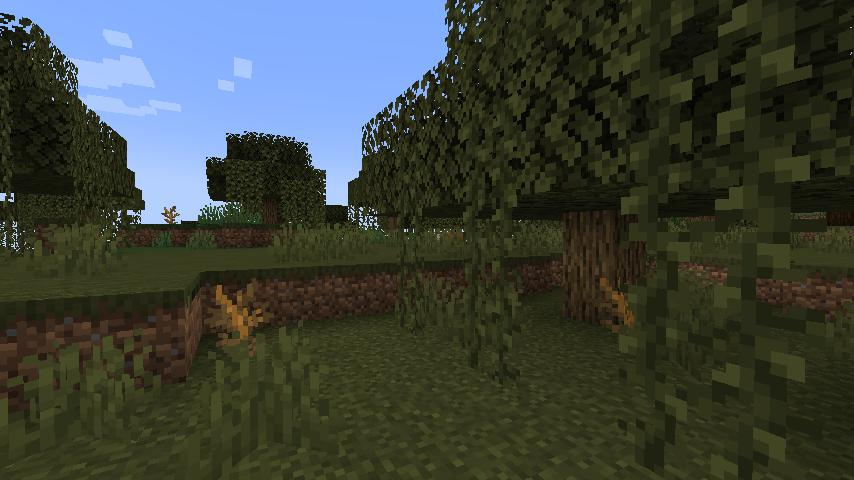fox: (435, 229, 464, 245)
